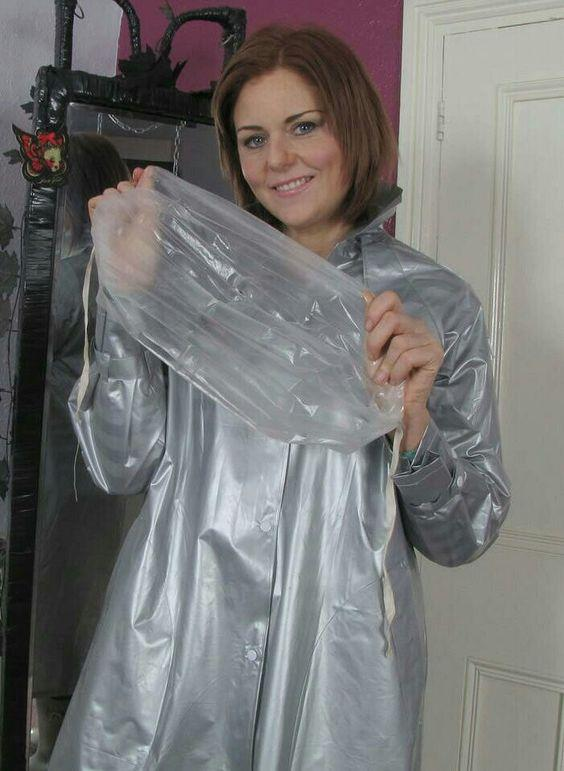LDPE: (97, 172, 405, 452)
PVC: (54, 220, 511, 771)
